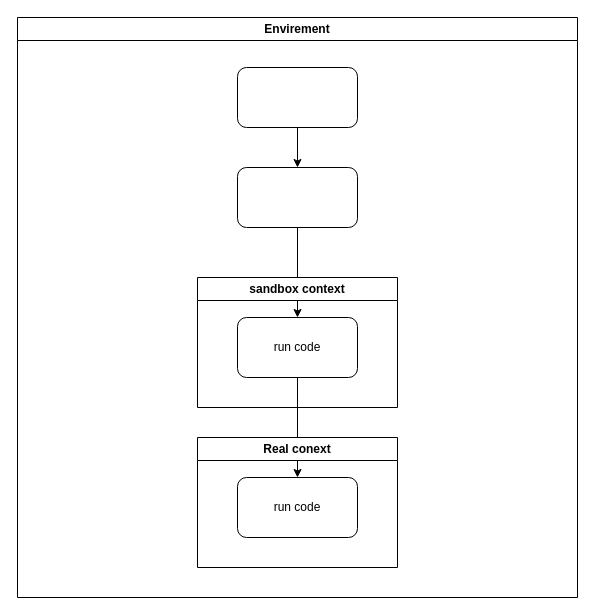
Some shapes in this 595 by 615 pixel diagram are drawn without their labels. Here are the shapes that lost their labels. From the top down, the centre of each, then its label:
point 297,97: raw ic10 code
point 297,197: splite by line
